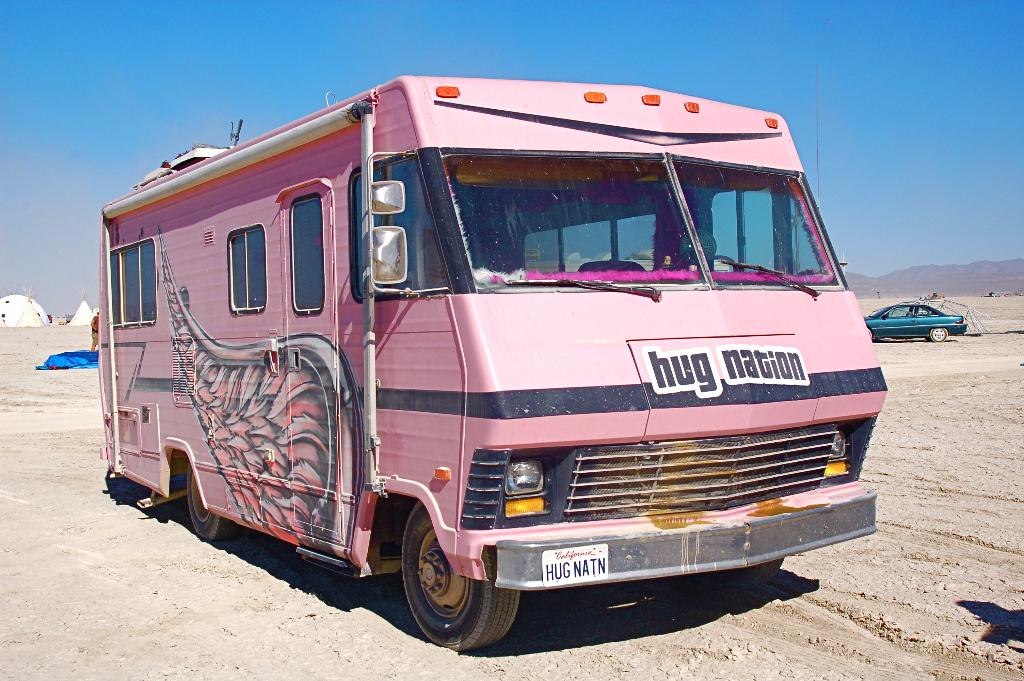Car: (865, 300, 970, 340)
